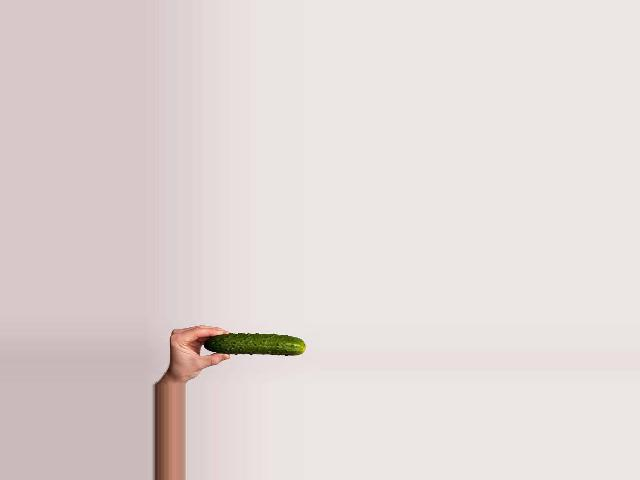cucumber: (203, 333, 304, 354)
